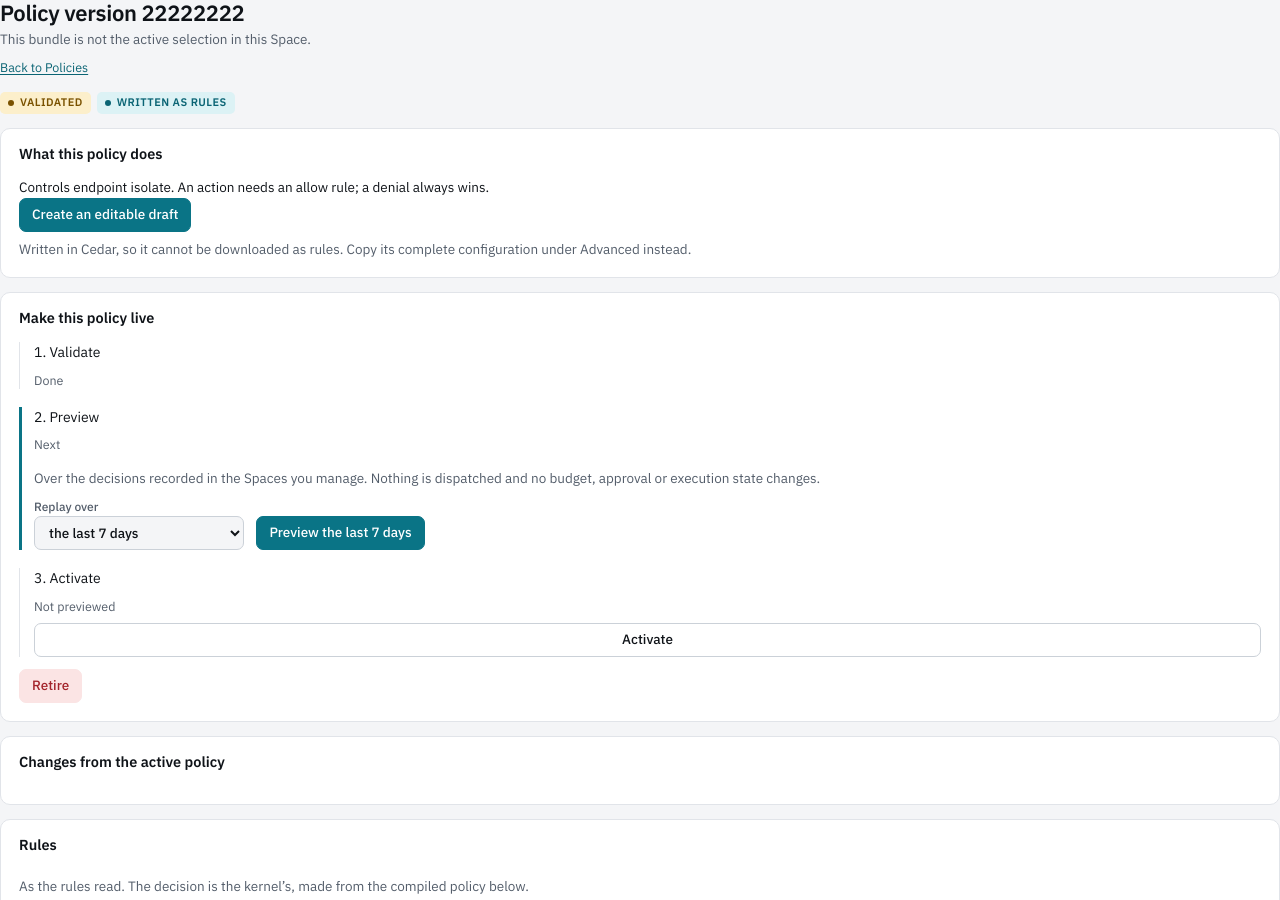
Test: the stepper › opens the activation dialog on the preview line, not previewed first
Click the button "Activate" at (648, 640), box [34,623,1261,657]
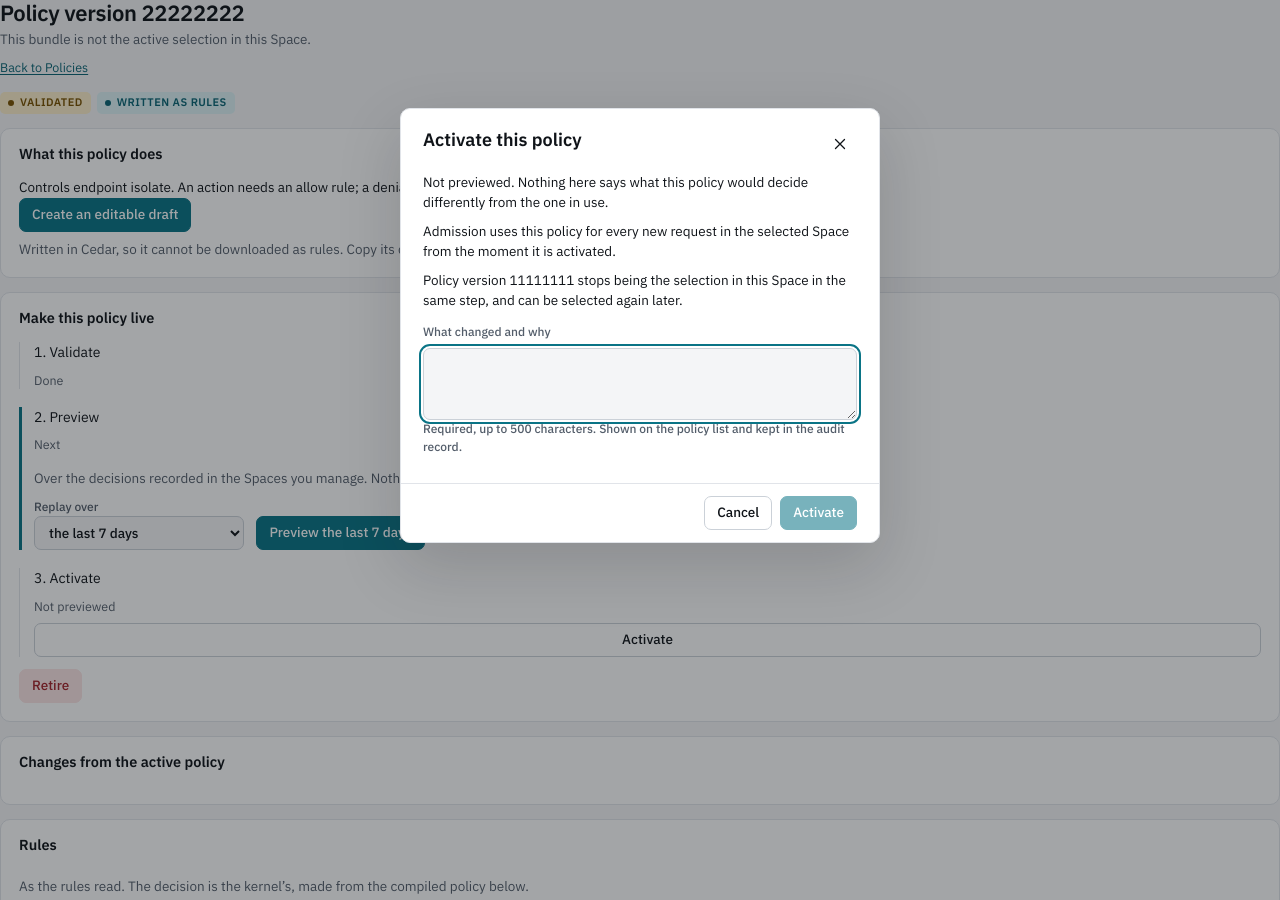
Expected: the text "Not previewed. Nothing here says what this policy would decide differently from the one in use." is shown, [423,173,808,211]
